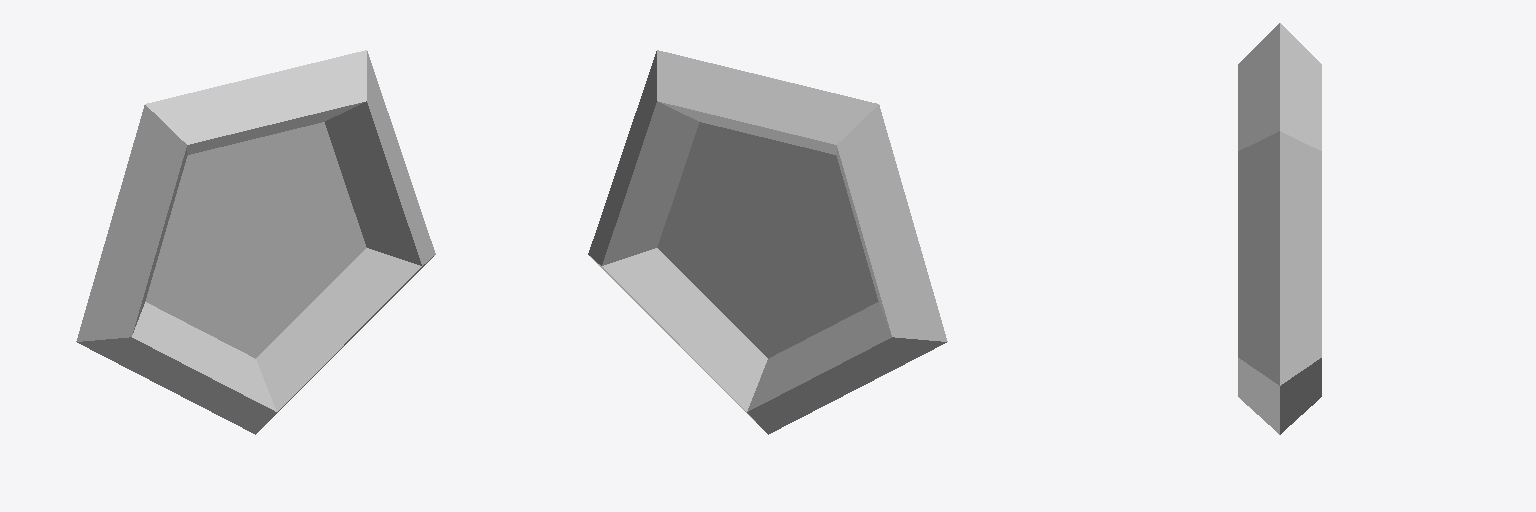
The model's file is Abberation2.obj.
3 views of the same model, side by side, from view 1: azimuth 30°, elevation 25°; view 2: azimuth 150°, elevation 25°; view 3: azimuth 270°, elevation 25° (orthographic).
Visible parts, largest first — view 1: Torus; view 2: Torus; view 3: Torus.
Boxes of the visible parts, x1=… form: Torus: x1=76, y1=50, x2=435, y2=434; Torus: x1=588, y1=50, x2=947, y2=434; Torus: x1=1238, y1=23, x2=1321, y2=434.
Size of the model in its own units: 2.47 by 2.35 by 0.5.